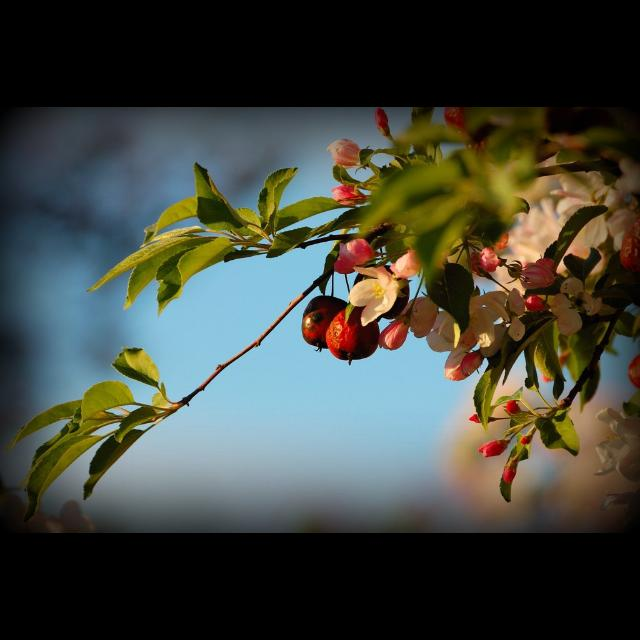Flower: (334, 108, 640, 484)
